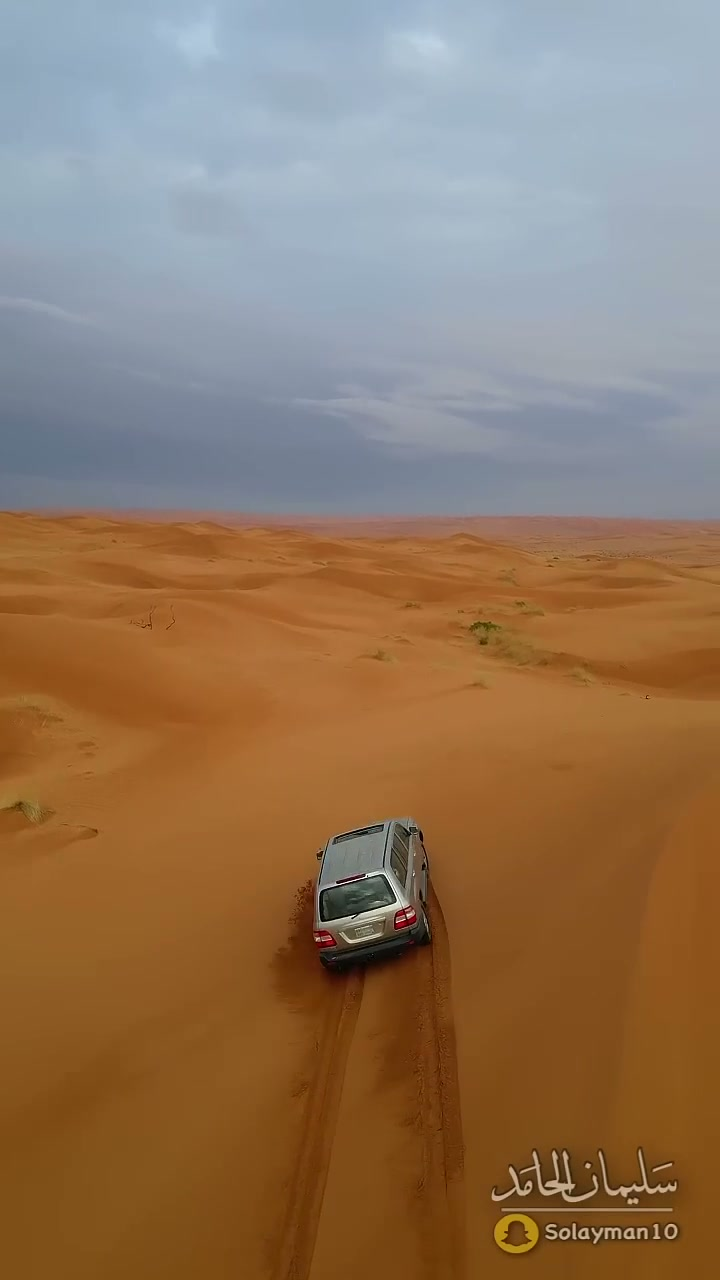vehicle_track: (273, 967, 364, 1279), (415, 887, 465, 1279)
